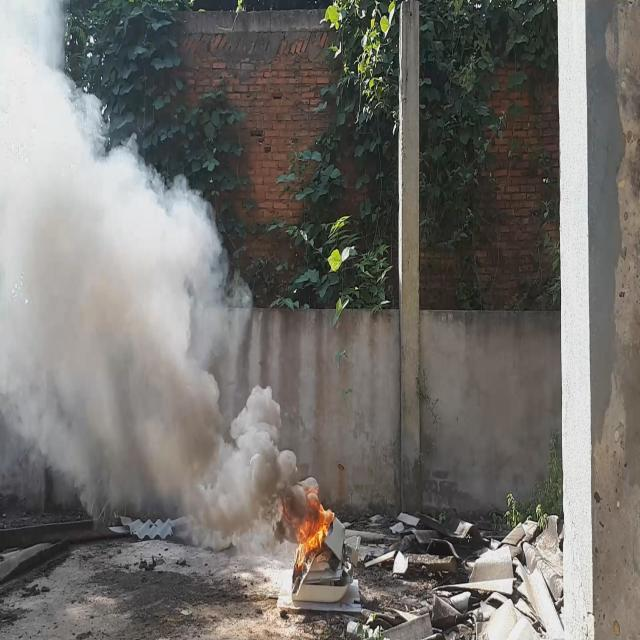Fire: (289, 482, 335, 572)
Smoke: (0, 0, 321, 541)
